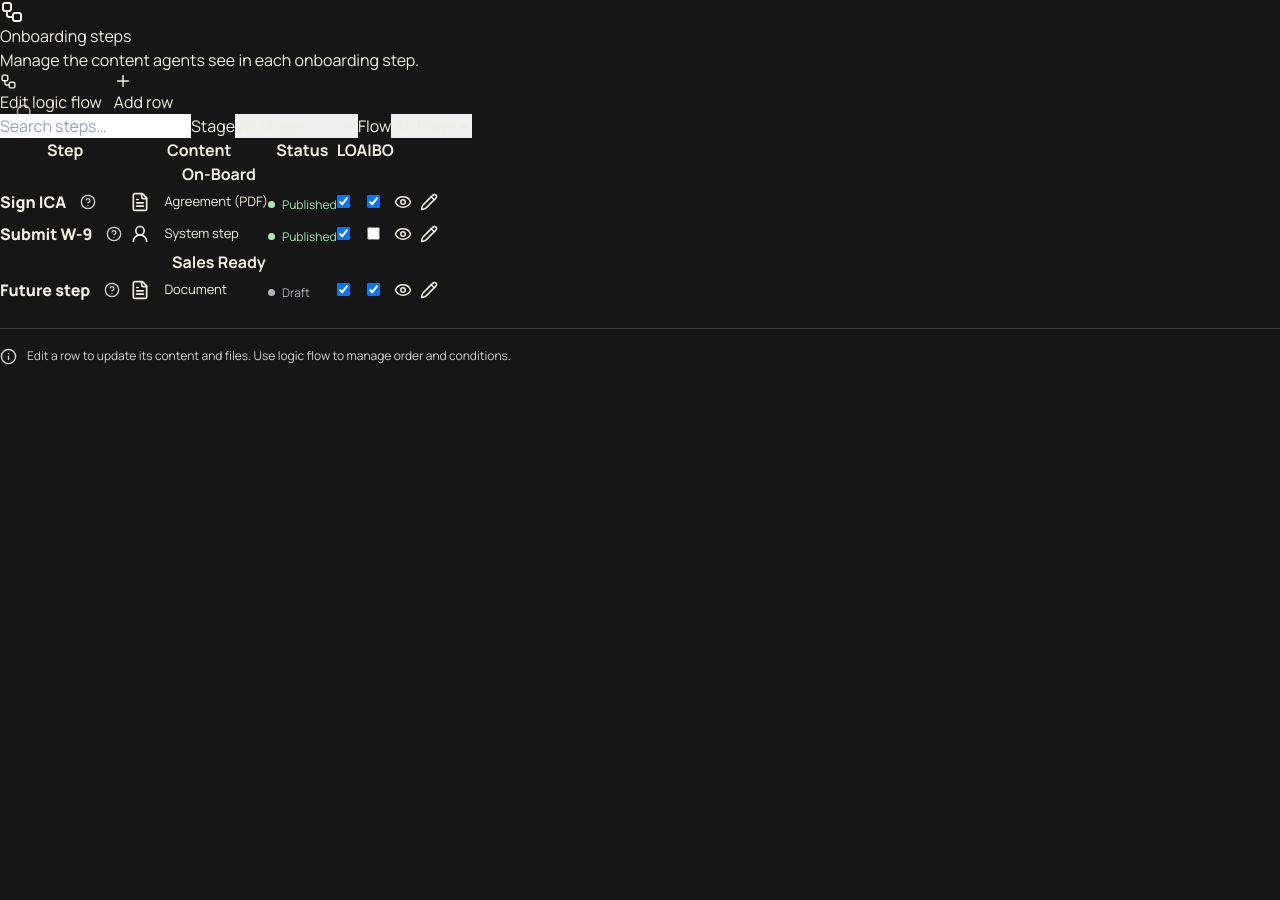
Test: Onboarding content editor › keeps changes after a save failure
Click the button named "Edit Submit W-9": (429, 234) [420,225,438,243]
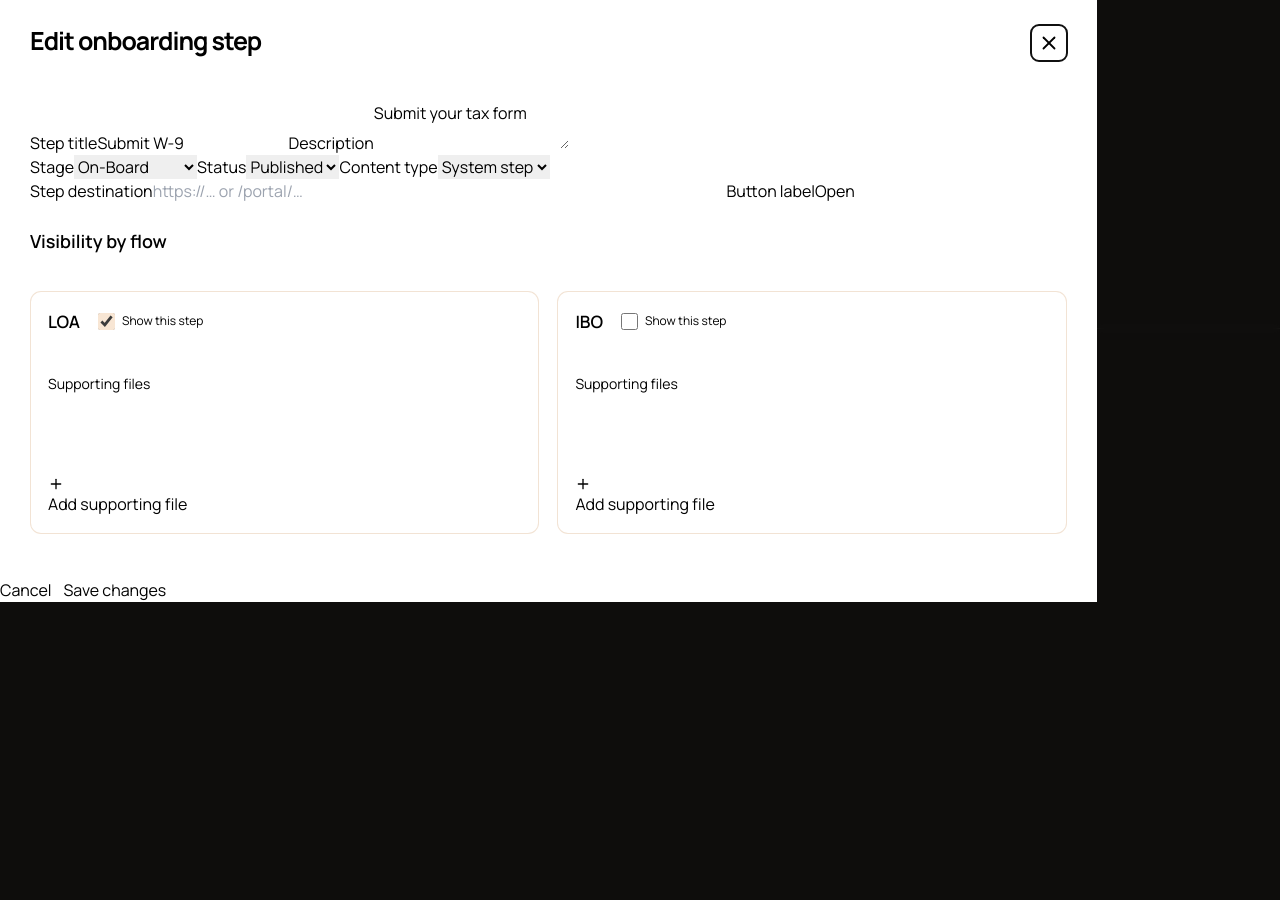
Replace the text in the field labelled "Step title" with "Updated W-9": (193, 142) [97,130,288,154]
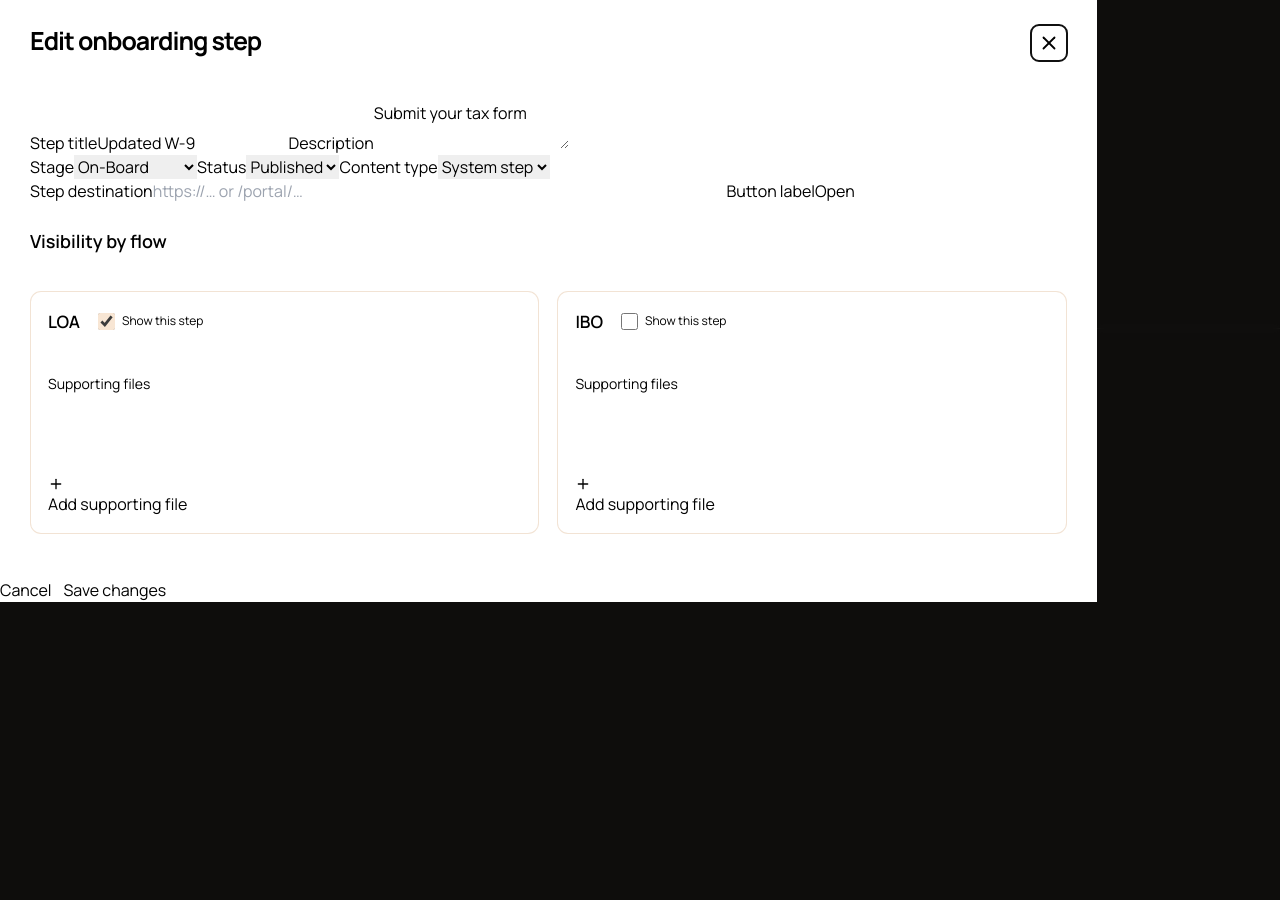
Click the button "Save changes": (115, 590) [64,578,166,602]
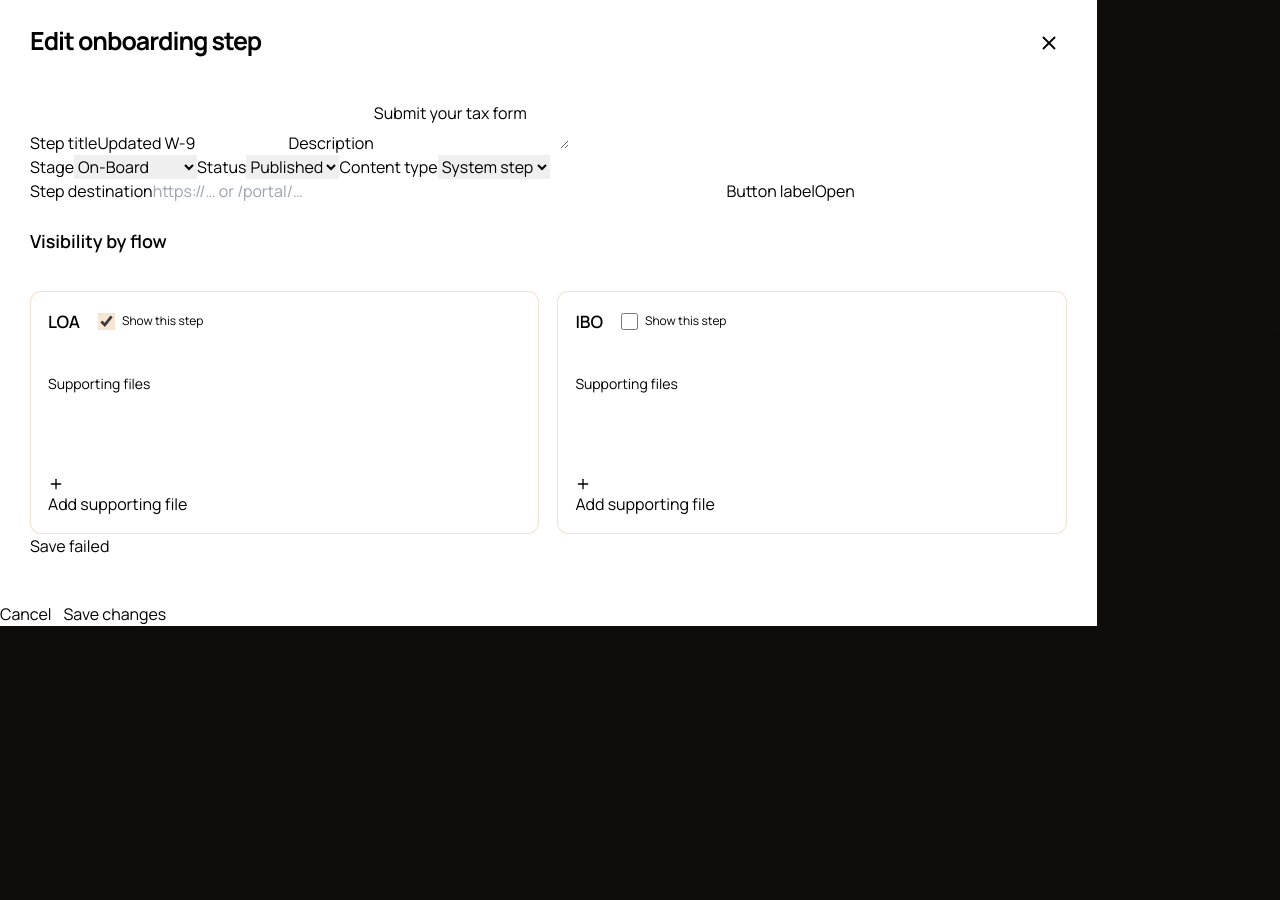
Result: the message "Save failed" is shown at [30,535,109,557]
